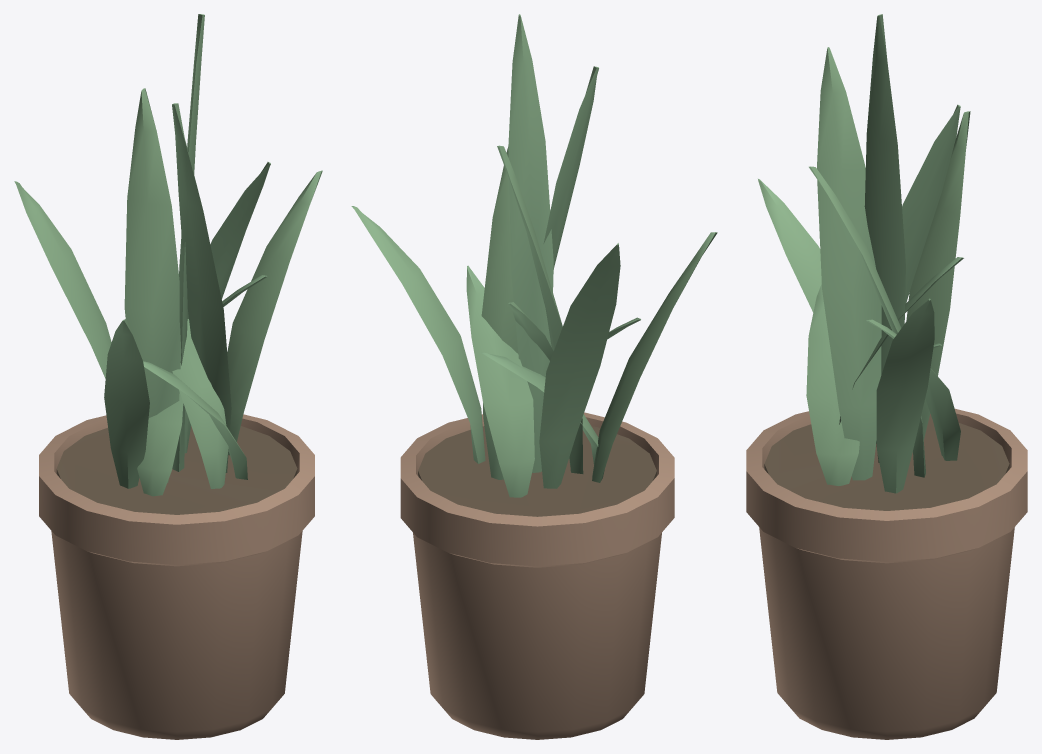
Rendered from plant.glb.
The picture shows the model from 3 angles, left to right: view 1: azimuth 30°, elevation 25°; view 2: azimuth 150°, elevation 25°; view 3: azimuth 270°, elevation 25°; orthographic projection. The views are drawn at different scales.
Visible parts, largest first — view 1: furn_plant; view 2: furn_plant; view 3: furn_plant.
Part boxes in pixels (box(x1,y1,x2,y2)): furn_plant: box(14, 14, 322, 739); furn_plant: box(351, 14, 717, 739); furn_plant: box(746, 14, 1027, 739).
Bounding box in the file's own units: 0.4875 × 1.1 × 0.4038.
